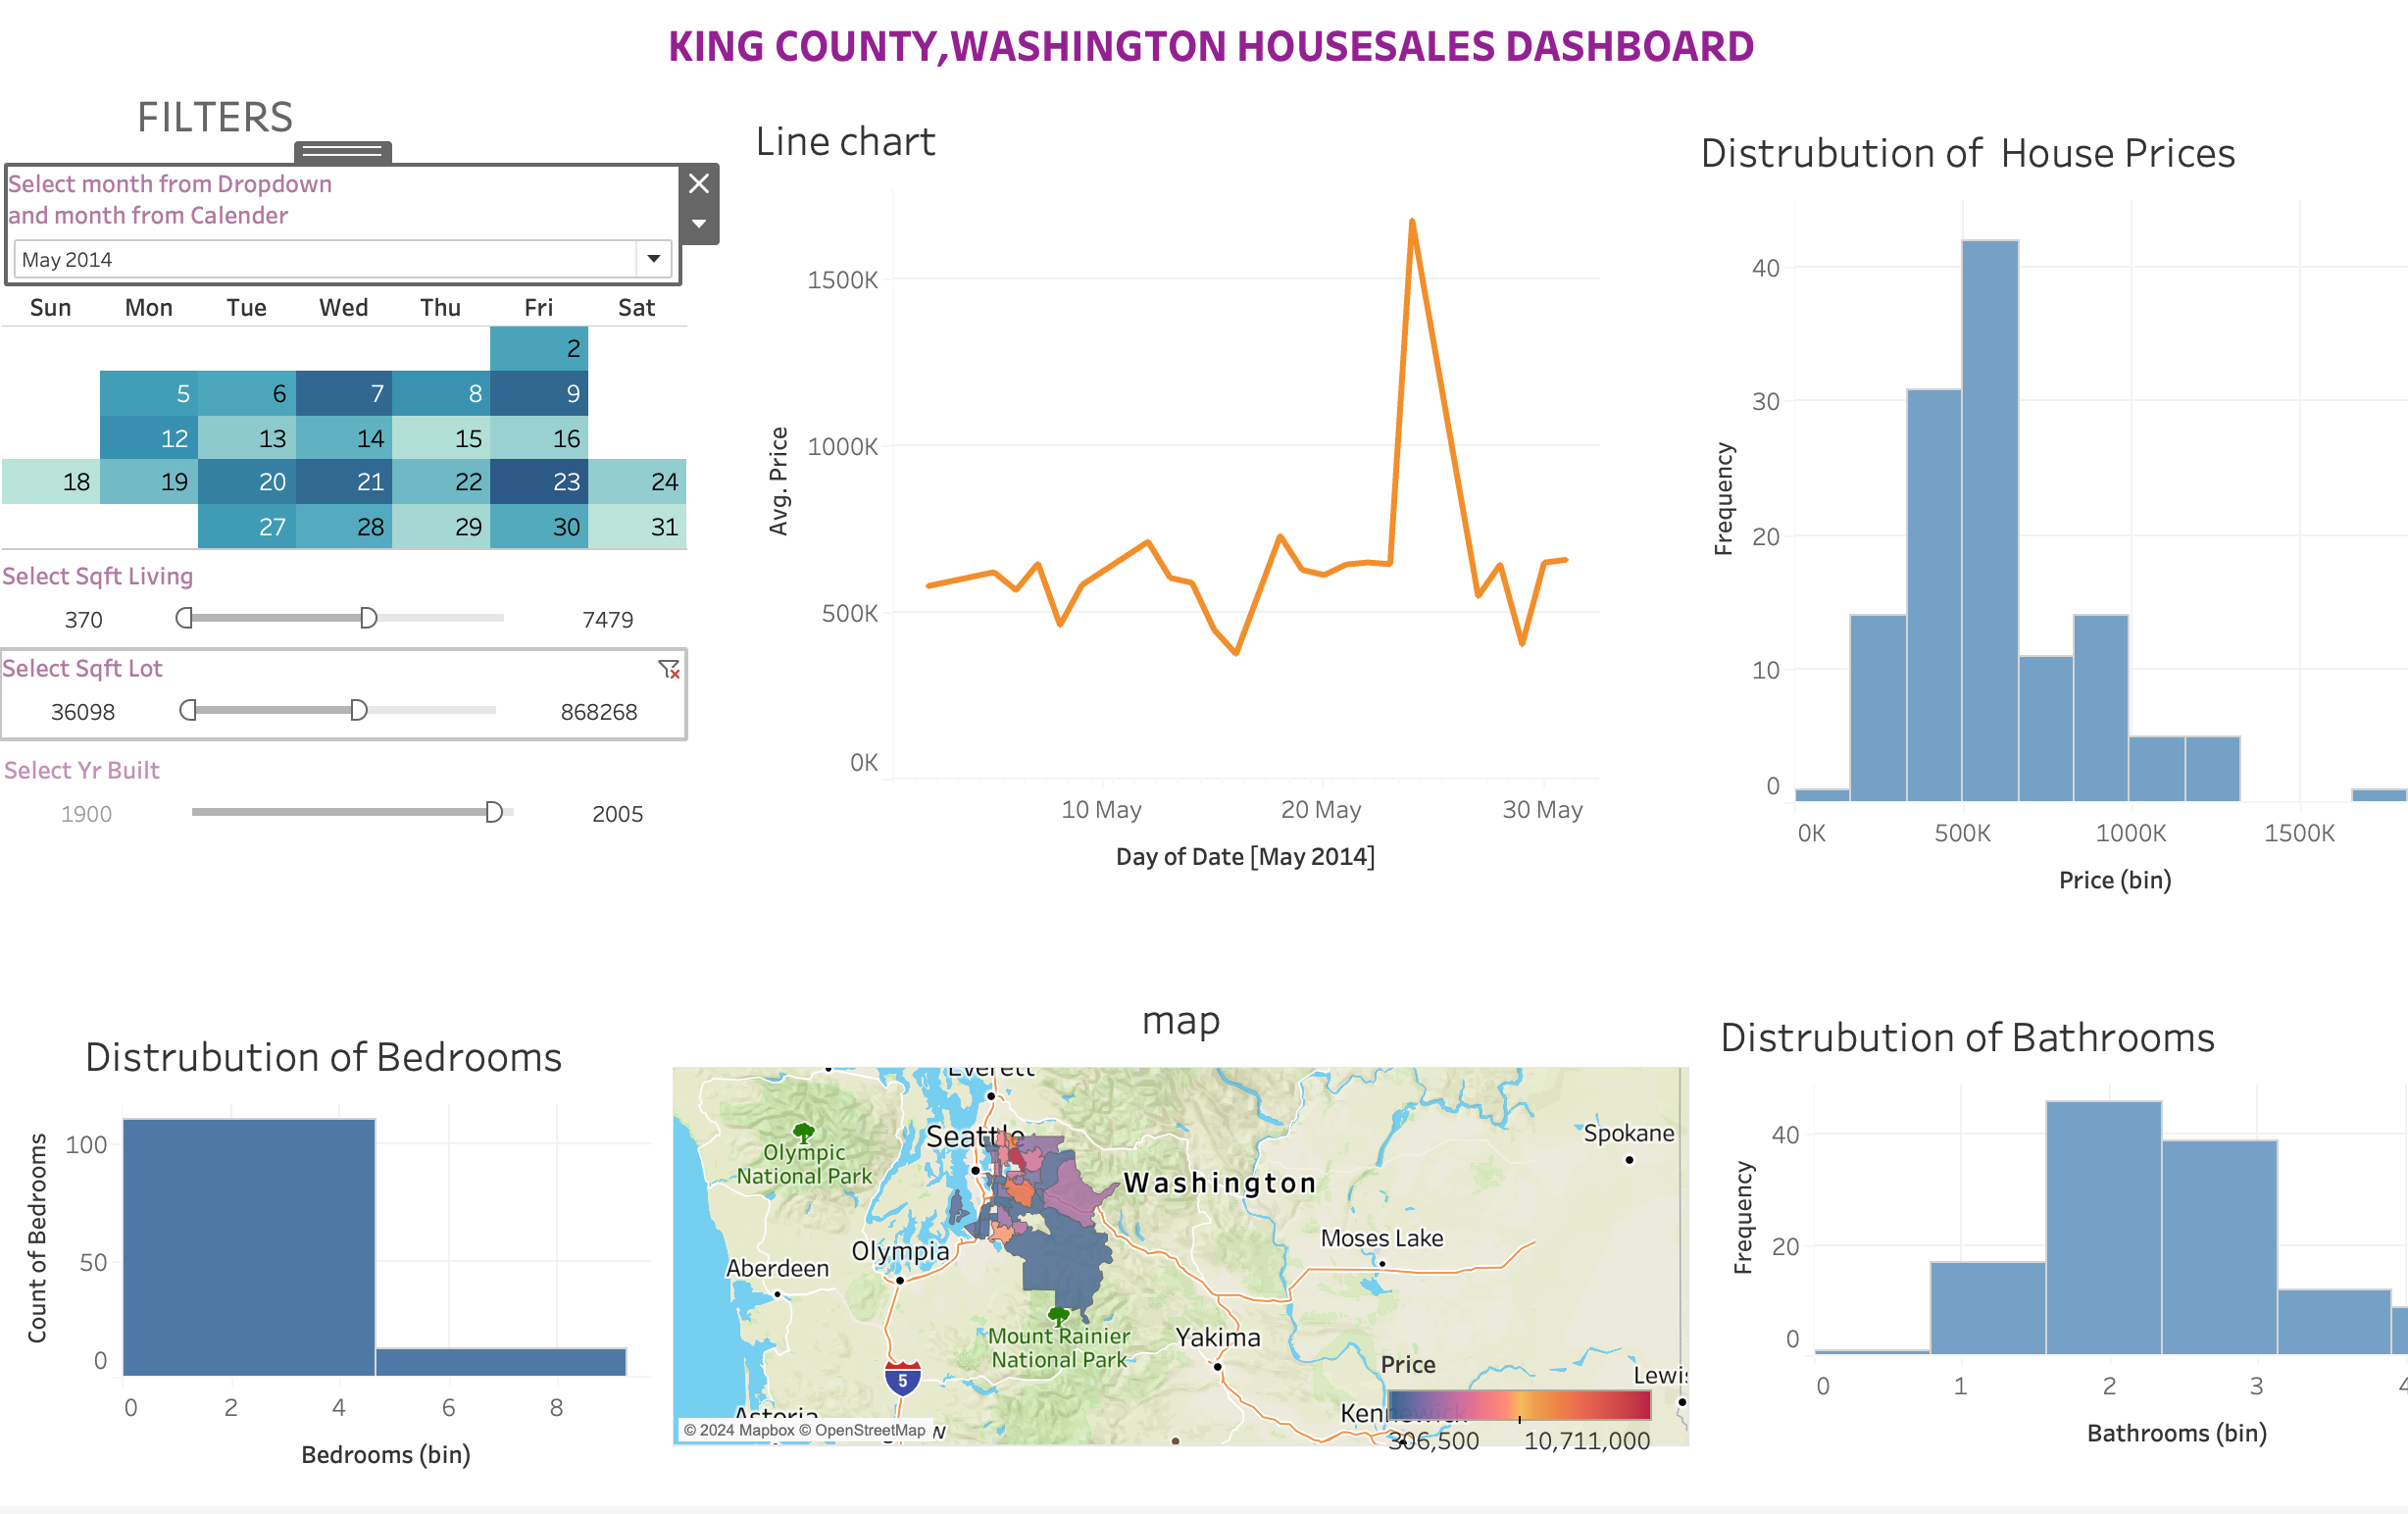

What the dashboard file says about the page in this screenshot:
{"tool":"tableau","page":{"name":"Dashboard 1","canvas":[1366,768],"ordinal":0},"visuals":[{"type":"blank","box":[8,8,1350,37]},{"type":"text","box":[11,8,1218,29]},{"type":"text","box":[19,39,186,39]},{"type":"worksheet","title":"Line chart ","mark":"Line","rows":["price"],"cols":["date"],"box":[383,53,435,399]},{"type":"worksheet","title":"Histogram House Price","mark":"Automatic","rows":["price"],"cols":["Price (bin)"],"box":[865,59,380,405]},{"type":"filter","title":"Calender","param":"[federated.15llg5a0css19918gelbj132289a].[my:date:ok]","box":[6,85,342,59]},{"type":"worksheet","title":"Calender","mark":"Square","rows":["date"],"cols":["date"],"box":[3,146,350,135]},{"type":"filter","title":"Calender","param":"[federated.15llg5a0css19918gelbj132289a].[none:sqft_living:qk]","box":[3,285,352,49]},{"type":"filter","title":"Calender","param":"[federated.15llg5a0css19918gelbj132289a].[none:sqft_lot:qk]","box":[3,332,348,44]},{"type":"filter","title":"Calender","param":"[federated.15llg5a0css19918gelbj132289a].[none:yr_built:qk]","box":[4,384,356,63]},{"type":"worksheet","title":"map","mark":"Automatic","box":[345,501,519,237]},{"type":"worksheet","title":"Hist Bathrooms","mark":"Automatic","rows":["bathrooms"],"cols":["Bathrooms (bin)"],"box":[875,510,423,236]},{"type":"worksheet","title":"Hist Bedrooms","mark":"Automatic","rows":["bedrooms"],"cols":["Bedrooms (bin)"],"box":[5,520,329,237]},{"type":"legend","title":"map","param":"[federated.15llg5a0css19918gelbj132289a].[sum:price:qk]","box":[706,687,143,57]}]}

Visuals, with their boxes on the page's 1366x768 design canvas (x1, y1, x2, y2). These are canvas units, not pixel positions in the 2408x1514 screenshot, which may show the page scaled, cropped or inside an application window:
blank: l=8, t=8, r=1358, b=45
text: l=11, t=8, r=1229, b=37
text: l=19, t=39, r=205, b=78
"Line chart " worksheet (Line marks): l=383, t=53, r=818, b=452
"Histogram House Price" worksheet: l=865, t=59, r=1245, b=464
"Calender" filter: l=6, t=85, r=348, b=144
"Calender" worksheet (Square marks): l=3, t=146, r=353, b=281
"Calender" filter: l=3, t=285, r=355, b=334
"Calender" filter: l=3, t=332, r=351, b=376
"Calender" filter: l=4, t=384, r=360, b=447
"map" worksheet: l=345, t=501, r=864, b=738
"Hist Bathrooms" worksheet: l=875, t=510, r=1298, b=746
"Hist Bedrooms" worksheet: l=5, t=520, r=334, b=757
"map" legend: l=706, t=687, r=849, b=744
